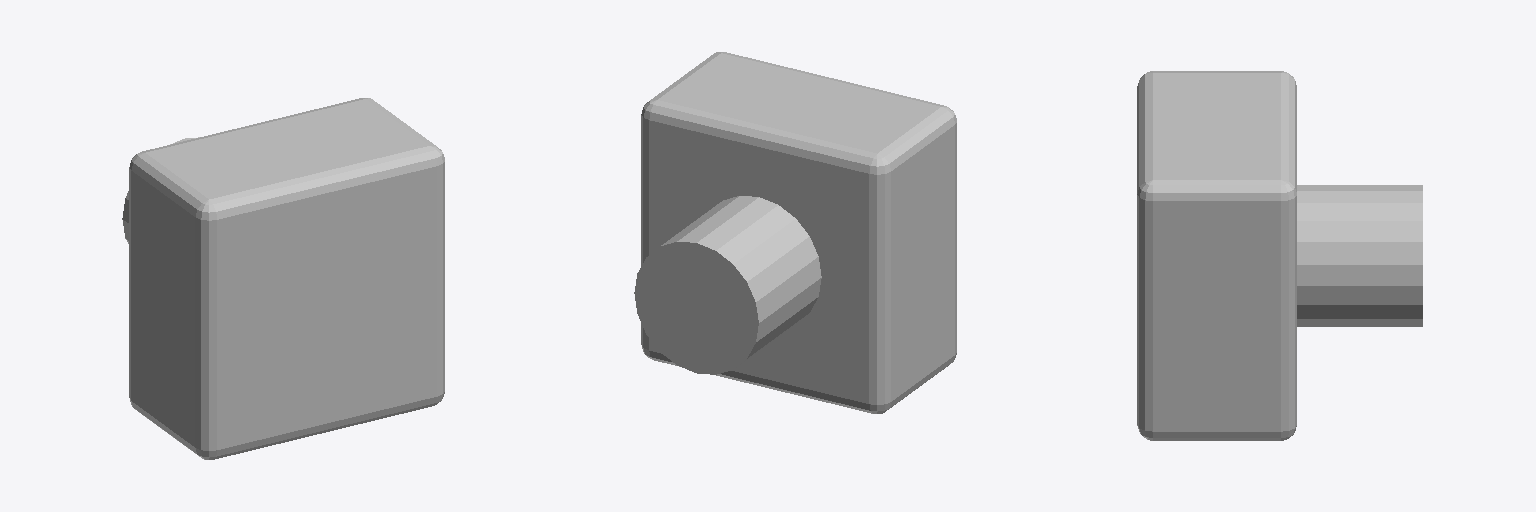
File: rubik_side.obj
The picture shows the model from 3 angles: view 1: azimuth 30°, elevation 25°; view 2: azimuth 150°, elevation 25°; view 3: azimuth 270°, elevation 25°; orthographic projection.
Size of the model in its own units: 1.79 by 1.79 by 1.78.